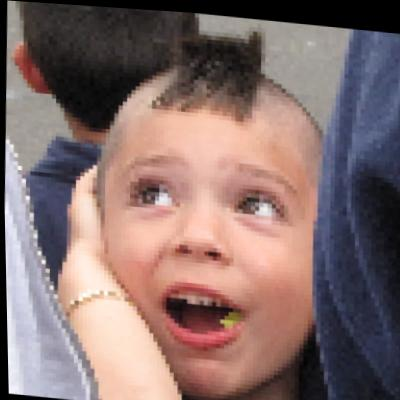surprise: (98, 93, 327, 393)
